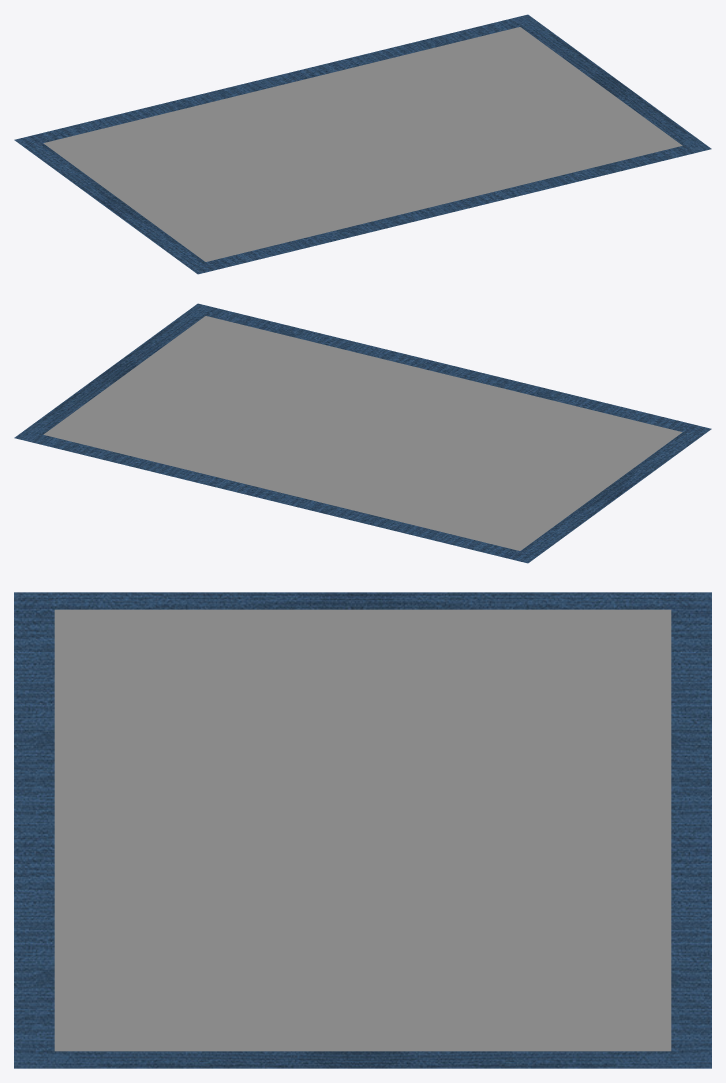
The model's file is ditan.FBX.
3 renders of one model, top to bottom at view 1: azimuth 30°, elevation 25°; view 2: azimuth 150°, elevation 25°; view 3: azimuth 270°, elevation 25°, orthographic. The views are drawn at different scales.
Visible parts, largest first — view 1: ditan; view 2: ditan; view 3: ditan.
Boxes of the visible parts, x1,y1,x2,y2 form: ditan: [14, 14, 711, 274]; ditan: [14, 303, 711, 563]; ditan: [14, 592, 711, 1068].
Size of the model in its own units: 387 by 1.47e-14 by 239.
